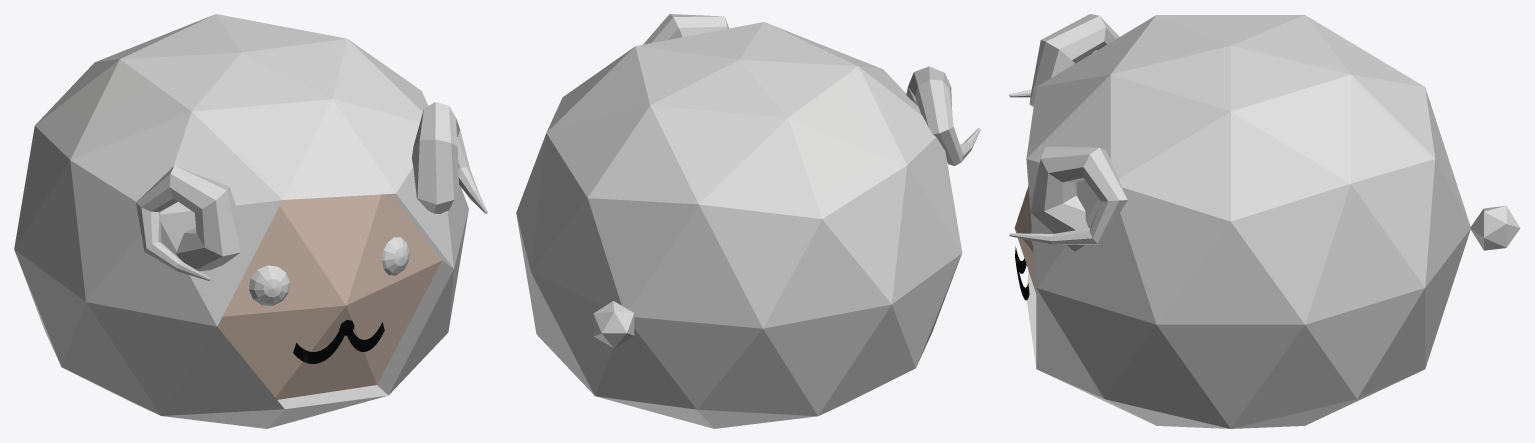
Rendered from seep.fbx.
The picture shows the model from 3 angles, left to right: view 1: azimuth 30°, elevation 25°; view 2: azimuth 150°, elevation 25°; view 3: azimuth 270°, elevation 25°; orthographic projection. The views are drawn at different scales.
Parts seen in each view (by area): view 1: body, Tsuno, eyes, mouse; view 2: body, Tsuno; view 3: body, Tsuno.
Boxes of the visible parts, x1,y1,x2,y2 form: body: (14, 14, 468, 428); Tsuno: (136, 102, 487, 281); eyes: (249, 237, 409, 305); mouse: (293, 320, 384, 363); body: (516, 22, 962, 428); Tsuno: (643, 14, 980, 165); body: (1014, 15, 1520, 428); Tsuno: (1009, 14, 1127, 251).
Bounding box in the file's own units: 190 × 155 × 213.
